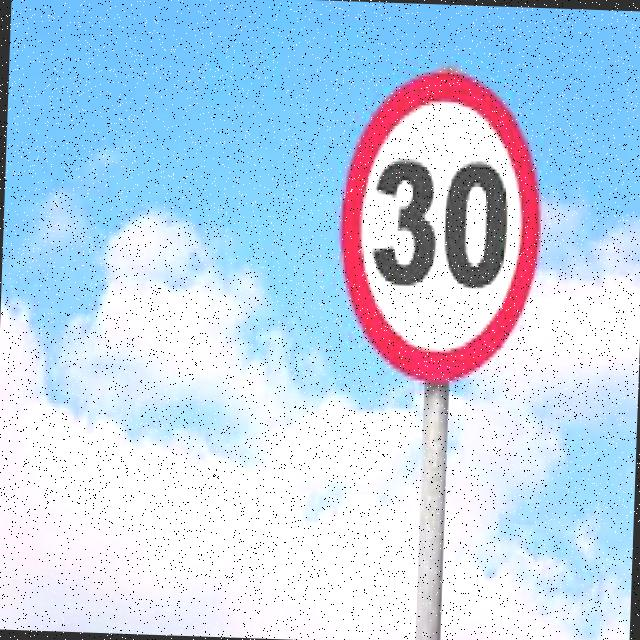Ograniczenie predkosci do 30: (336, 66, 548, 390)
